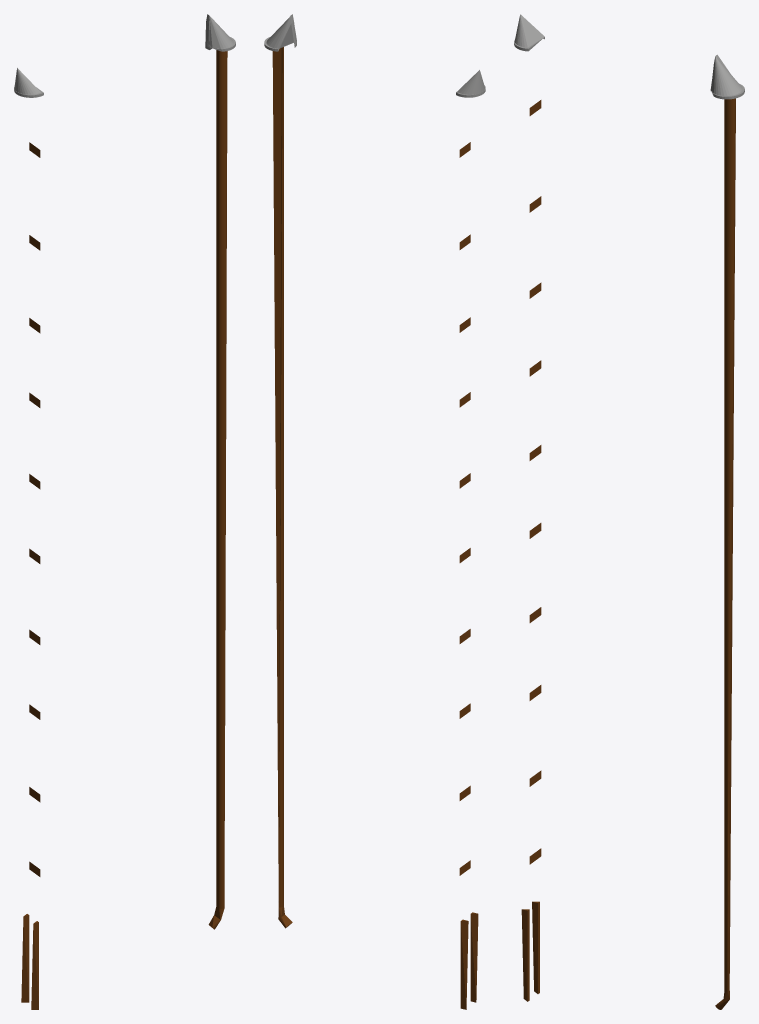
The picture shows the model from 3 angles, left to right: view 1: azimuth 30°, elevation 25°; view 2: azimuth 150°, elevation 25°; view 3: azimuth 330°, elevation 25°; orthographic projection. The views are drawn at different scales.
Visible parts, largest first — view 1: Sides_sides_0; view 2: Sides_sides_0; view 3: Sides_sides_0.
Part boxes in pixels (x1,y1,x2,y2): Sides_sides_0: (14,14,235,1009); Sides_sides_0: (264,14,485,1009); Sides_sides_0: (514,14,744,1009).
Bounding box in the file's own units: 15.3 × 63.85 × 2.09.
